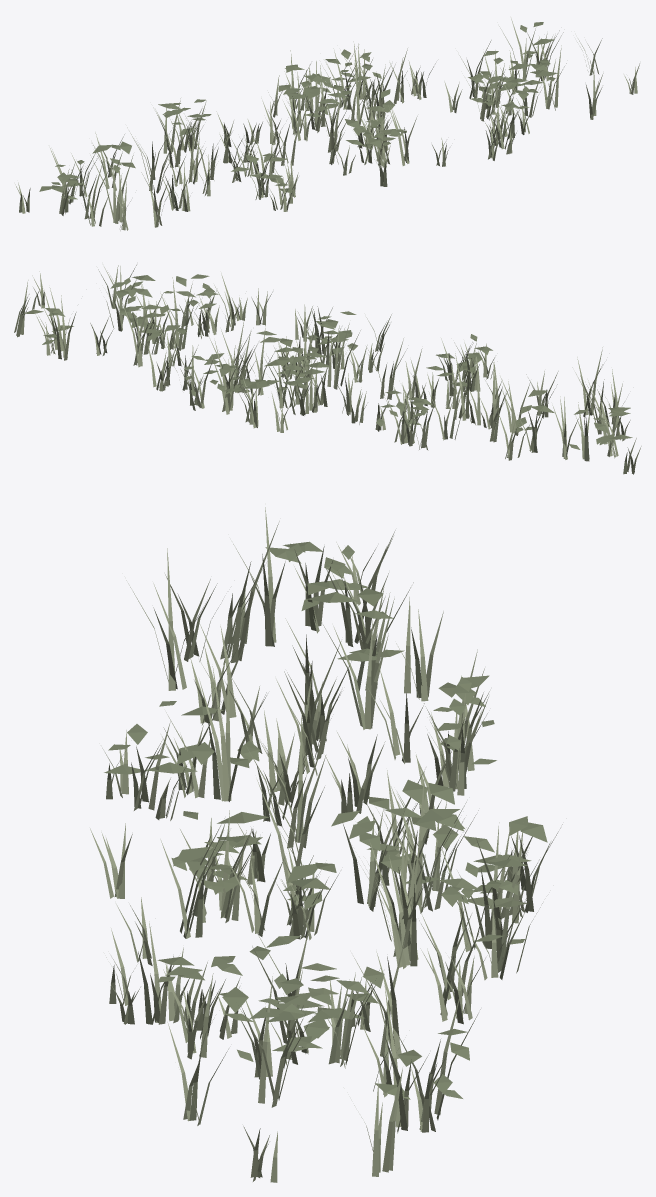
Rendered from AE_Encroachment_08.fbx.
3 renders of one model, top to bottom at view 1: azimuth 30°, elevation 25°; view 2: azimuth 150°, elevation 25°; view 3: azimuth 270°, elevation 25°, orthographic. The views are drawn at different scales.
Parts seen in each view (by area): view 1: AE_Encroachment_08_LOD0; view 2: AE_Encroachment_08_LOD0; view 3: AE_Encroachment_08_LOD0.
Boxes of the visible parts, x1,y1,x2,y2 form: AE_Encroachment_08_LOD0: (15,18,639,230); AE_Encroachment_08_LOD0: (14,265,641,474); AE_Encroachment_08_LOD0: (90,507,562,1182).
Size of what is drawn, in the model's own units: 966 by 107 by 335.
